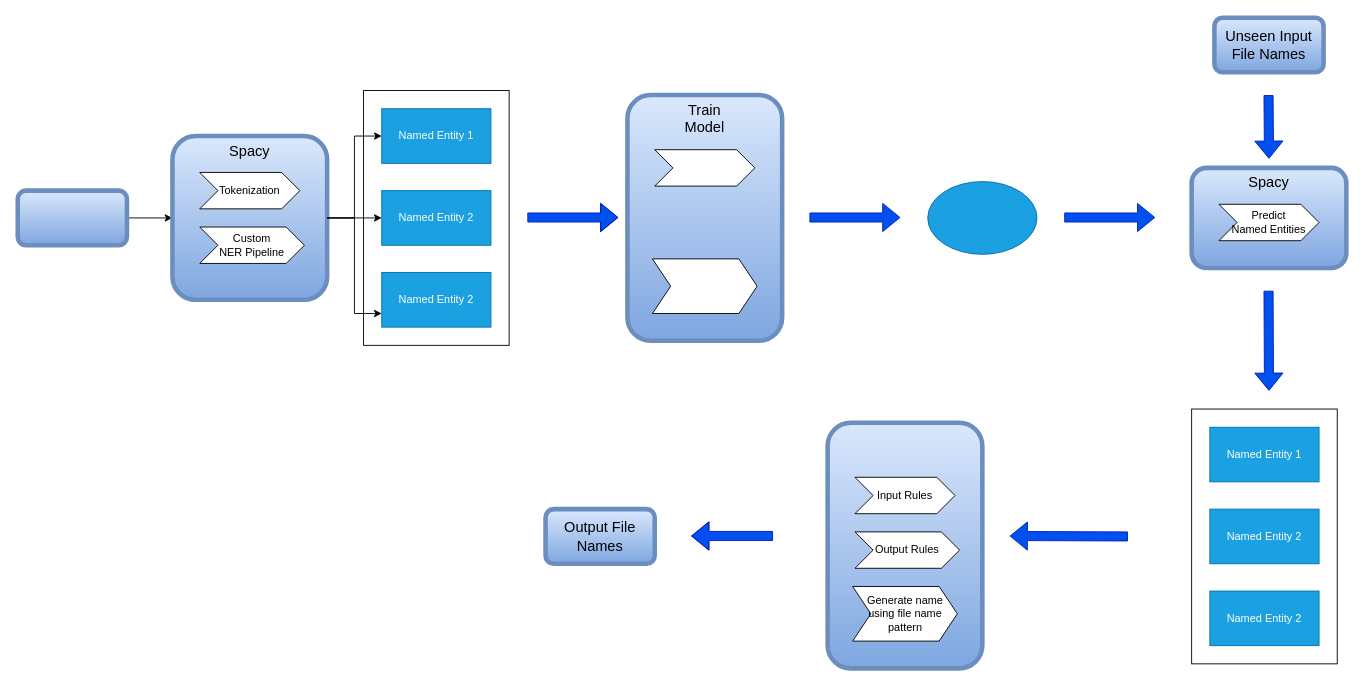
The diagram is 1364 pixels wide and 686 high, and some of its shapes have lost their labels. The box of each missing label's shape, as (x1, y1, x2, y2) in pixels:
Create Spacy Config: (654, 149, 755, 186)
Input File Names: (15, 188, 129, 247)
New Name Generation: (825, 420, 984, 670)
Saved Model: (927, 181, 1037, 254)
Train model using Generated NER: (652, 258, 757, 313)
